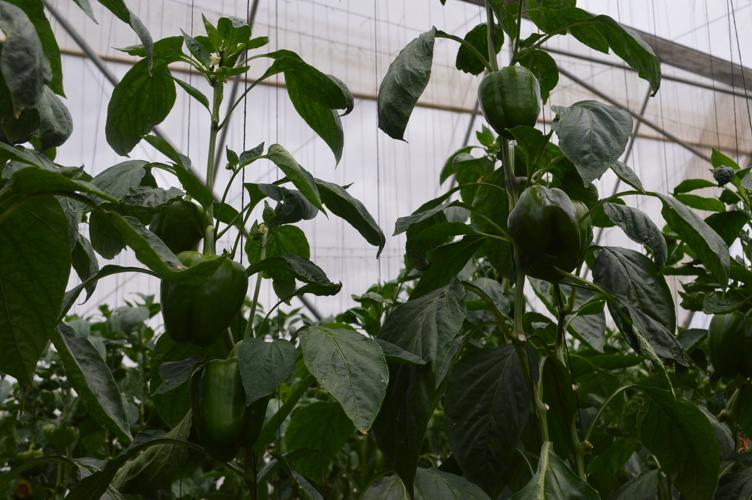BellPepper: (184, 357, 264, 460), (160, 257, 249, 344), (519, 201, 595, 277), (509, 188, 574, 254), (477, 69, 541, 136), (145, 199, 199, 249)
